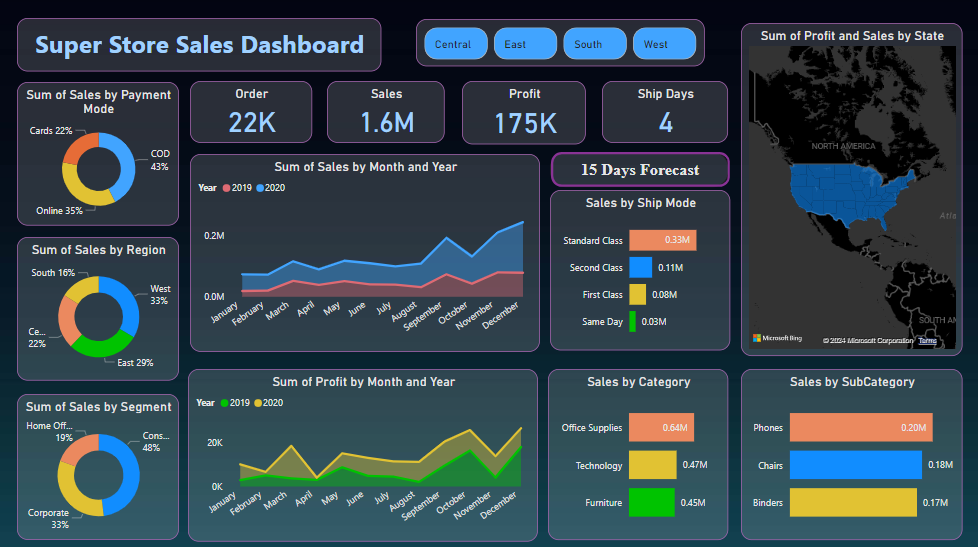

What the dashboard file says about the page in this screenshot:
{"tool":"powerbi","page":{"name":"Page 1","canvas":[1280,720],"ordinal":0},"visuals":[{"type":"clusteredBarChart","title":"Sales by Category","fields":{"Category":["SuperStore_Sales_Dataset.Category"],"Y":["Sum(SuperStore_Sales_Dataset.Sales)"]},"box":[718,484,236,224],"z":0},{"type":"clusteredBarChart","title":"Sales by SubCategory","fields":{"Category":["SuperStore_Sales_Dataset.Sub-Category"],"Y":["Sum(SuperStore_Sales_Dataset.Sales)"]},"box":[970,484,290,224],"z":1000},{"type":"clusteredBarChart","title":"Sales by Ship Mode","fields":{"Category":["SuperStore_Sales_Dataset.Ship Mode"],"Y":["Sum(SuperStore_Sales_Dataset.Sales)"]},"box":[720,250,236,210],"z":2000},{"type":"stackedAreaChart","fields":{"Y":["Sum(SuperStore_Sales_Dataset.Sales)"],"Category":["SuperStore_Sales_Dataset.Order Date.Variation.Date Hierarchy.Month","SuperStore_Sales_Dataset.Order Date.Variation.Date Hierarchy.Day"],"Series":["SuperStore_Sales_Dataset.Order Date.Variation.Date Hierarchy.Year"]},"box":[249.1,202.3,458.3,258.8],"z":3000},{"type":"stackedAreaChart","fields":{"Category":["SuperStore_Sales_Dataset.Order Date.Variation.Date Hierarchy.Month","SuperStore_Sales_Dataset.Order Date.Variation.Date Hierarchy.Day"],"Series":["SuperStore_Sales_Dataset.Order Date.Variation.Date Hierarchy.Year"],"Y":["Sum(SuperStore_Sales_Dataset.Profit)"]},"box":[246.4,484.5,458.3,225.7],"z":4000},{"type":"filledMap","title":"Sum of Profit and Sales by State","fields":{"Category":["SuperStore_Sales_Dataset.State"]},"box":[970,32,290,436],"z":5000},{"type":"donutChart","fields":{"Category":["SuperStore_Sales_Dataset.Payment Mode"],"Y":["Sum(SuperStore_Sales_Dataset.Sales)"]},"box":[22,108,212,188],"z":6000},{"type":"donutChart","fields":{"Category":["SuperStore_Sales_Dataset.Segment"],"Y":["Sum(SuperStore_Sales_Dataset.Sales)"]},"box":[22,517.5,212,191.3],"z":7000},{"type":"donutChart","fields":{"Category":["SuperStore_Sales_Dataset.Region"],"Y":["Sum(SuperStore_Sales_Dataset.Sales)"]},"box":[22,312,212,188],"z":8000},{"type":"advancedSlicerVisual","fields":{"Values":["SuperStore_Sales_Dataset.Region"]},"box":[544,26,378,62],"z":9000},{"type":"textbox","box":[22.9,24.3,477.1,70],"z":10000},{"type":"card","title":"Sales","fields":{"Values":["Sum(SuperStore_Sales_Dataset.Sales)"]},"box":[428,107.4,154.2,81.2],"z":11000},{"type":"card","title":"Order","fields":{"Values":["Sum(SuperStore_Sales_Dataset.Quantity)"]},"box":[249.1,107.4,159.7,81.2],"z":12000},{"type":"card","title":"Profit","fields":{"Values":["Sum(SuperStore_Sales_Dataset.Profit)"]},"box":[604.2,107.4,162.4,82.6],"z":13000},{"type":"card","title":"Ship Days","fields":{"Values":["Avg(SuperStore_Sales_Dataset.AvgDelivery)"]},"box":[788.6,107.4,165.2,81.2],"z":14000},{"type":"textbox","box":[720,200.8,233.8,46],"z":15000},{"type":"actionButton","box":[721.1,200,234.4,45.6],"z":16000}]}

Visuals, with their boxes in screenshot pixels (x1, y1, x2, y2), scaled from the page's 1280x720 canvas onto the 978x547 screenshot:
"Sales by Category" clusteredBarChart: region(549, 368, 729, 538)
"Sales by SubCategory" clusteredBarChart: region(741, 368, 963, 538)
"Sales by Ship Mode" clusteredBarChart: region(550, 190, 730, 349)
stackedAreaChart - Sum(SuperStore_Sales_Dataset.Sales) x SuperStore_Sales_Dataset.Order Date.Variation.Date Hierarchy.Month: region(190, 154, 540, 350)
stackedAreaChart - SuperStore_Sales_Dataset.Order Date.Variation.Date Hierarchy.Month x SuperStore_Sales_Dataset.Order Date.Variation.Date Hierarchy.Day: region(188, 368, 538, 540)
"Sum of Profit and Sales by State" filledMap: region(741, 24, 963, 356)
donutChart - SuperStore_Sales_Dataset.Payment Mode x Sum(SuperStore_Sales_Dataset.Sales): region(17, 82, 179, 225)
donutChart - SuperStore_Sales_Dataset.Segment x Sum(SuperStore_Sales_Dataset.Sales): region(17, 393, 179, 538)
donutChart - SuperStore_Sales_Dataset.Region x Sum(SuperStore_Sales_Dataset.Sales): region(17, 237, 179, 380)
advancedSlicerVisual - SuperStore_Sales_Dataset.Region: region(416, 20, 704, 67)
textbox: region(17, 18, 382, 72)
"Sales" card: region(327, 82, 445, 143)
"Order" card: region(190, 82, 312, 143)
"Profit" card: region(462, 82, 586, 144)
"Ship Days" card: region(603, 82, 729, 143)
textbox: region(550, 153, 729, 187)
actionButton: region(551, 152, 730, 187)
